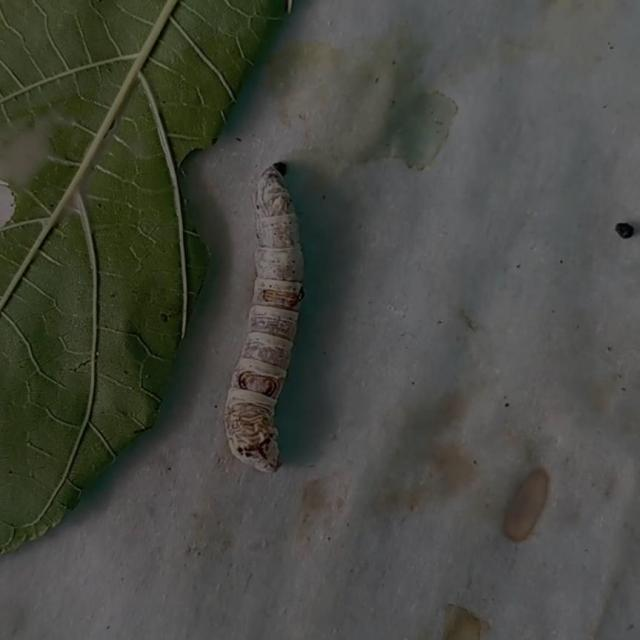Grasserie: (218, 152, 318, 486)
